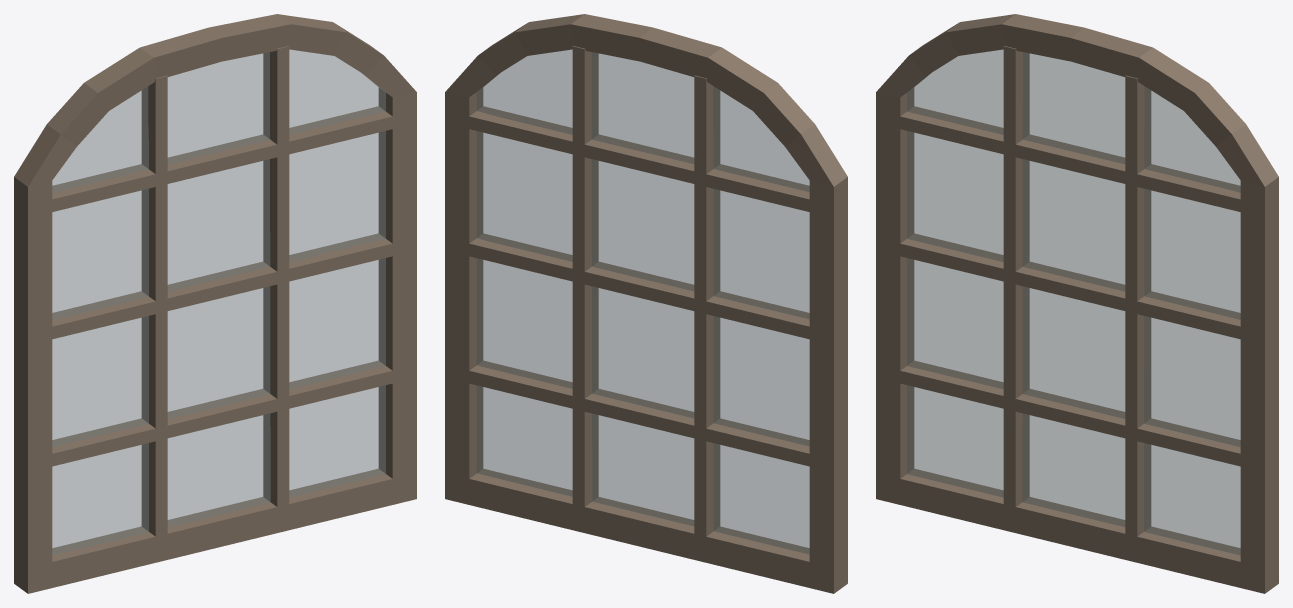
The model's file is victorian_window_1.fbx.
The picture shows the model from 3 angles, left to right: view 1: azimuth 30°, elevation 25°; view 2: azimuth 150°, elevation 25°; view 3: azimuth 330°, elevation 25°; orthographic projection.
Parts seen in each view (by area): view 1: Plane.001; view 2: Plane.001; view 3: Plane.001.
Boxes of the visible parts, <box> form: Plane.001: <box>14,14,416,593</box>; Plane.001: <box>445,14,847,593</box>; Plane.001: <box>876,14,1278,593</box>.
Size of the model in its own units: 160 by 200 by 10.
